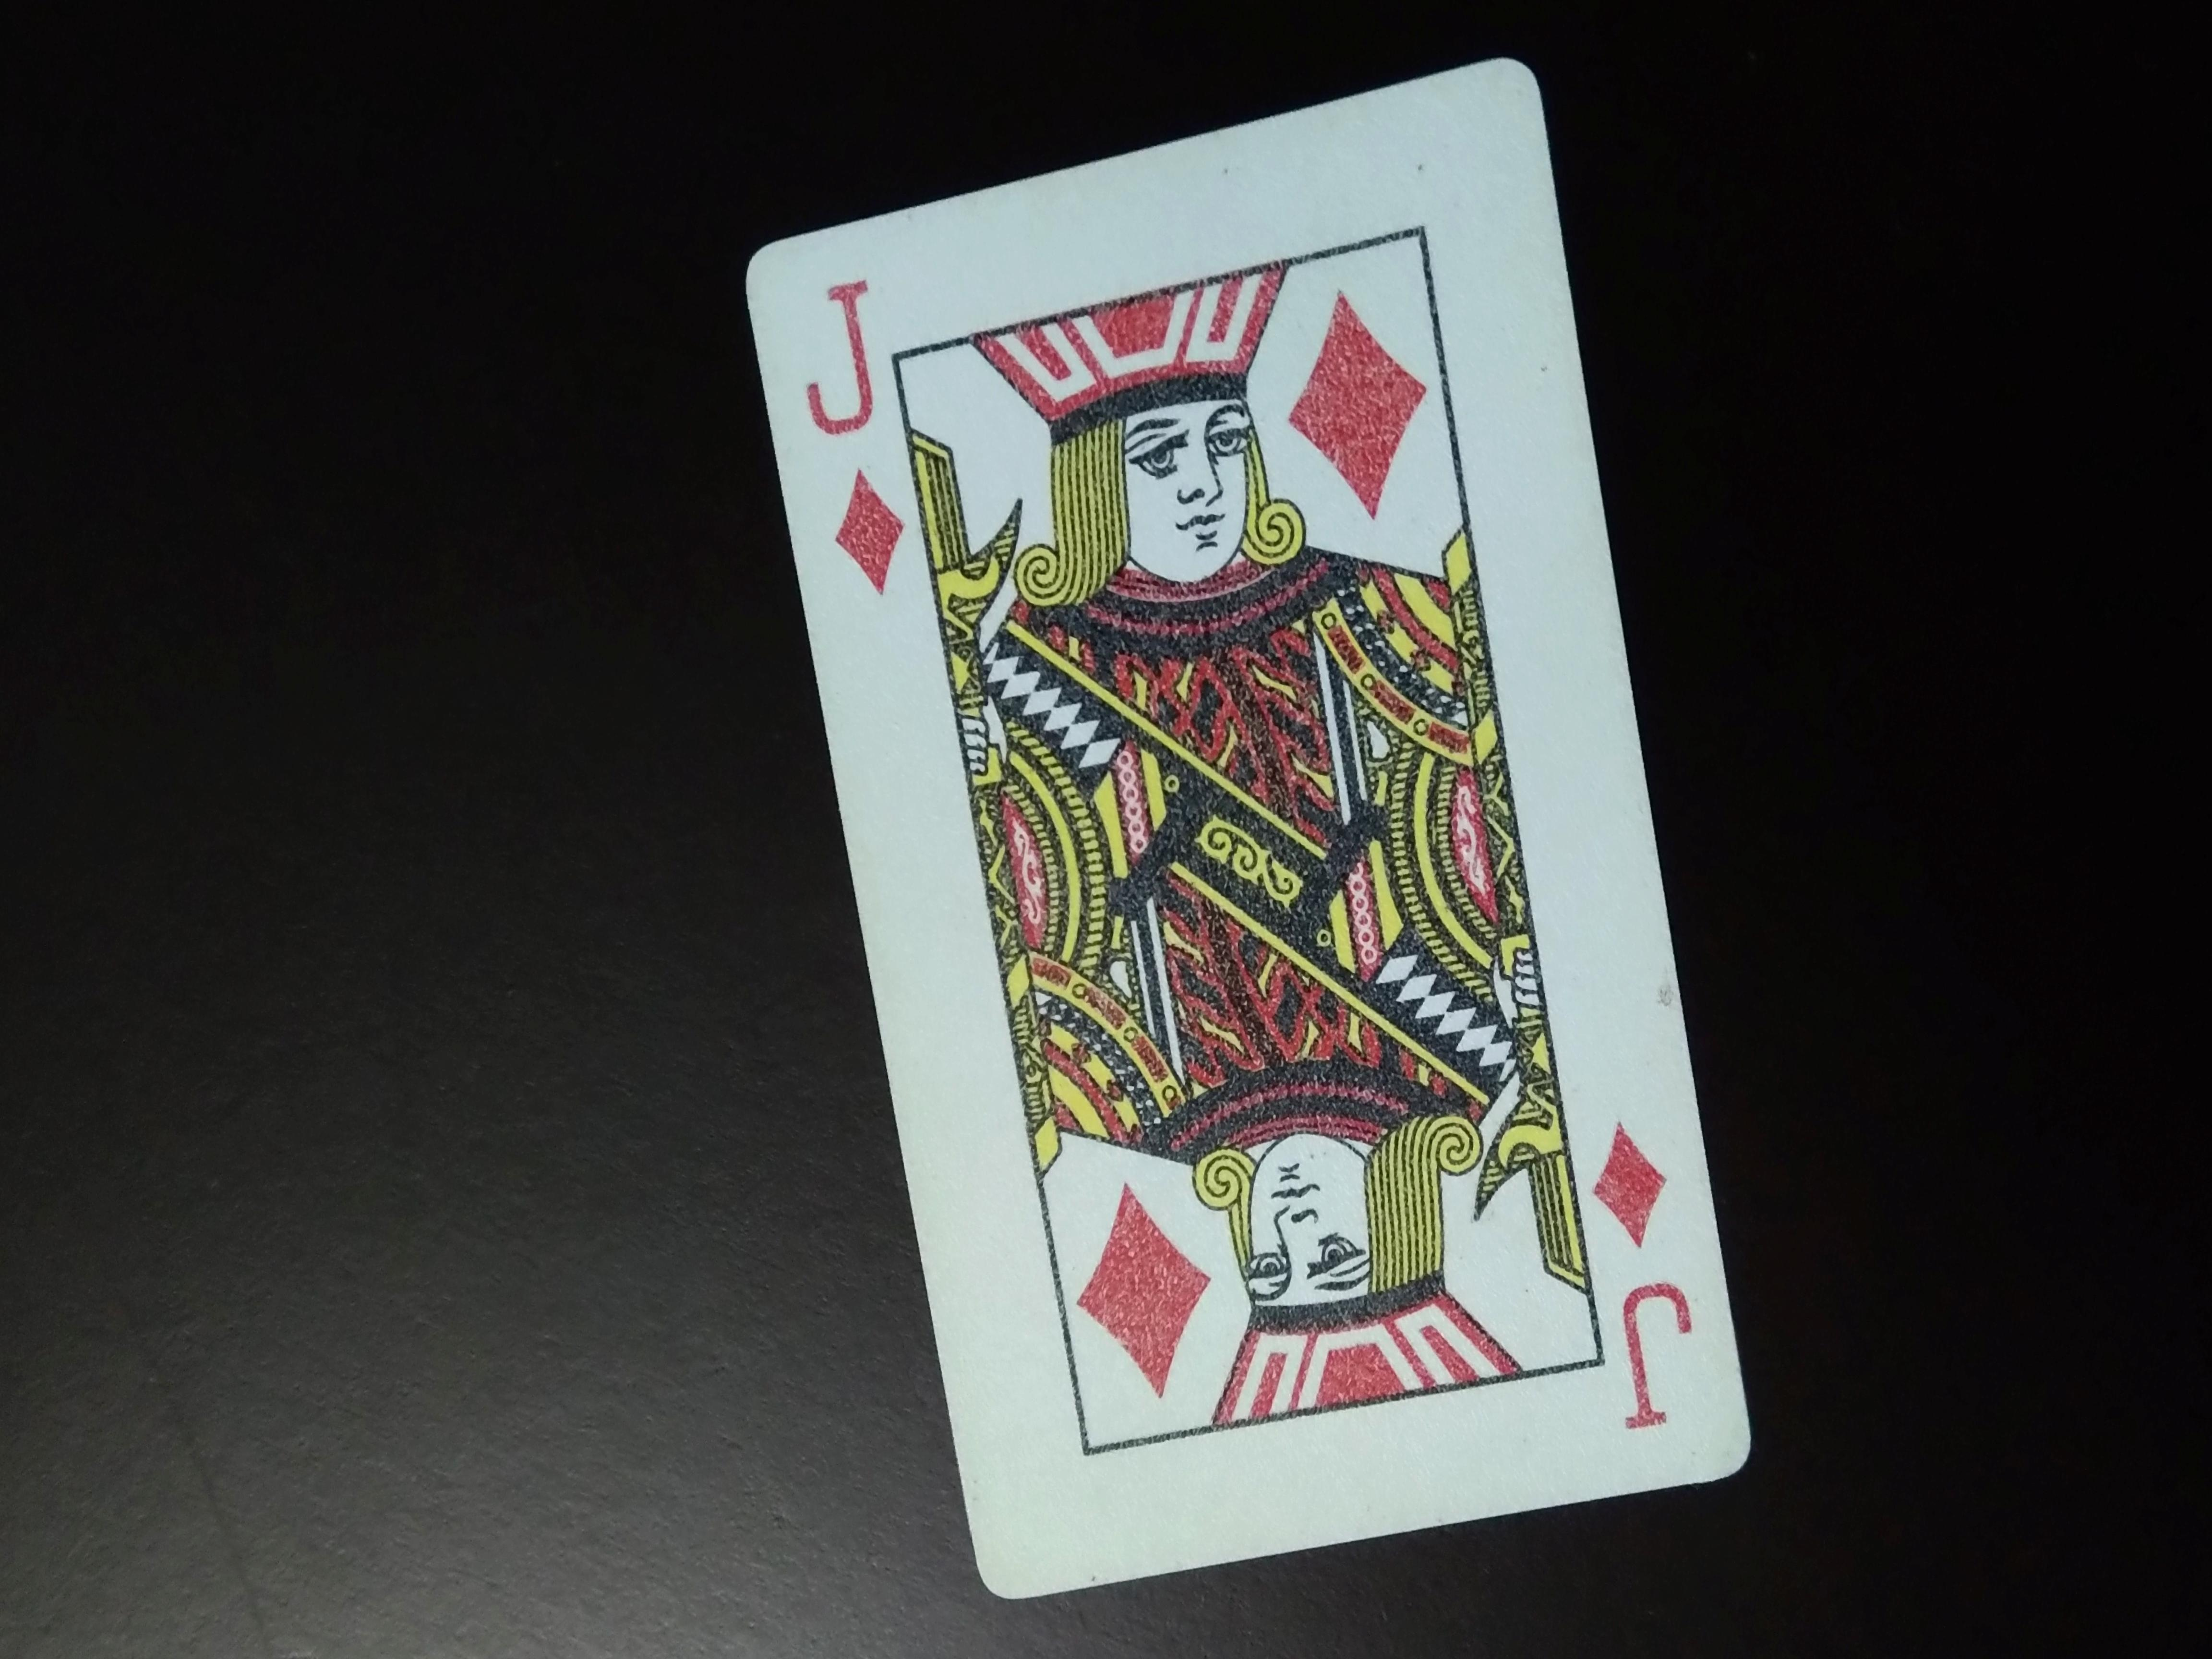JD: (799, 260, 909, 612)
